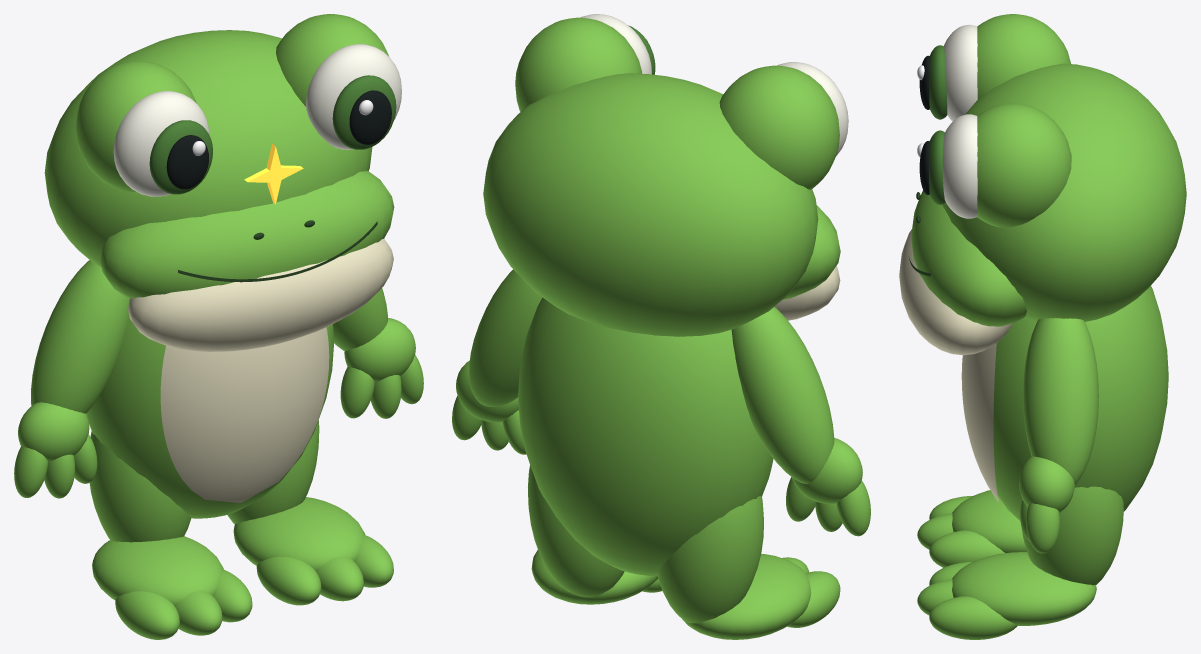
The model's file is sparky.glb.
The picture shows the model from 3 angles, left to right: view 1: azimuth 30°, elevation 25°; view 2: azimuth 150°, elevation 25°; view 3: azimuth 270°, elevation 25°; orthographic projection. The views are drawn at different scales.
Visible parts, largest first — view 1: HeadVolume, CreamBelly, LowerMuzzle, CreamChin, PearBody, UpperArm_L, Foot_L, EyeMound_L, Foot_R, Thigh_L, EyeWhite_L, EyeMound_R (+23 smaller); view 2: HeadVolume, PearBody, UpperArm_L, EyeMound_L, Thigh_L, EyeMound_R, UpperArm_R, Foot_L, Thigh_R, Palm_L, Foot_R, LowerMuzzle (+11 smaller); view 3: HeadVolume, PearBody, UpperArm_R, EyeMound_R, LowerMuzzle, Foot_R, Thigh_R, EyeMound_L, CreamChin, CreamBelly, EyeWhite_R, Foot_L (+13 smaller).
Boxes of the visible parts, x1,y1,x2,y2 form: HeadVolume: (44,30,372,266); CreamBelly: (160,327,329,502); LowerMuzzle: (100,170,394,298); CreamChin: (128,238,393,351); PearBody: (86,315,333,518); UpperArm_L: (31,260,129,413); Foot_L: (92,536,223,606); EyeMound_L: (76,61,196,191); Foot_R: (233,497,365,571); Thigh_L: (89,431,191,542); EyeWhite_L: (113,91,209,196); EyeMound_R: (276,14,388,106); HeadVolume: (483,73,818,336); PearBody: (518,297,773,575); UpperArm_L: (731,307,834,483); EyeMound_L: (719,65,839,189); Thigh_L: (657,496,763,623); EyeMound_R: (515,17,641,111); UpperArm_R: (469,269,542,406); Foot_L: (682,554,811,639); Thigh_R: (528,465,624,597); Palm_L: (791,438,862,503); Foot_R: (531,550,658,604); LowerMuzzle: (782,205,840,299); HeadVolume: (942,63,1186,321); PearBody: (993,286,1168,520); UpperArm_R: (1023,318,1098,484); EyeMound_R: (977,103,1071,227); LowerMuzzle: (911,190,1026,326); Foot_R: (952,552,1096,625); Thigh_R: (1021,486,1123,585); EyeMound_L: (977,14,1070,99); CreamChin: (899,229,1012,355); CreamBelly: (961,343,999,502); EyeWhite_R: (942,114,977,218); Foot_L: (952,490,1026,552).
Bounding box in the file's own units: 2.23 × 2.89 × 1.44.
